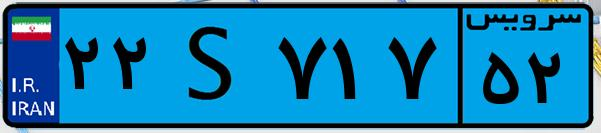1: (330, 28, 385, 110)
2: (57, 26, 110, 100), (525, 38, 570, 115), (110, 28, 158, 98)
5: (475, 38, 525, 113)
7: (270, 28, 330, 110), (385, 28, 445, 110)
S: (158, 12, 270, 120)
